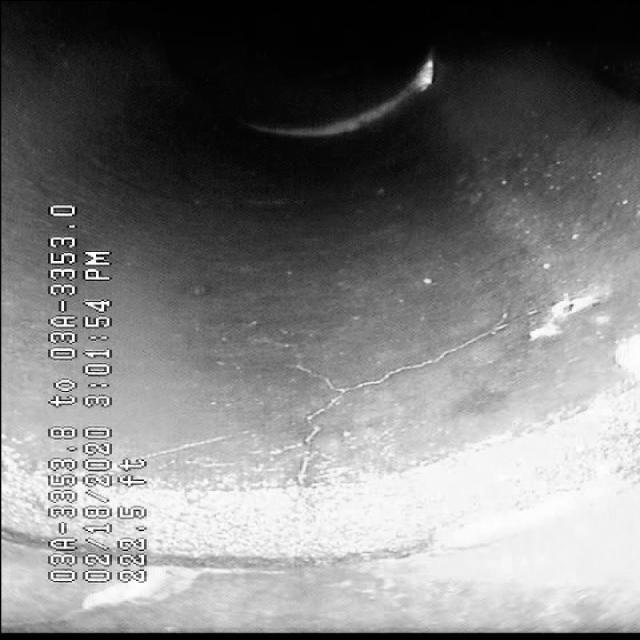Crack: (209, 278, 499, 545)
